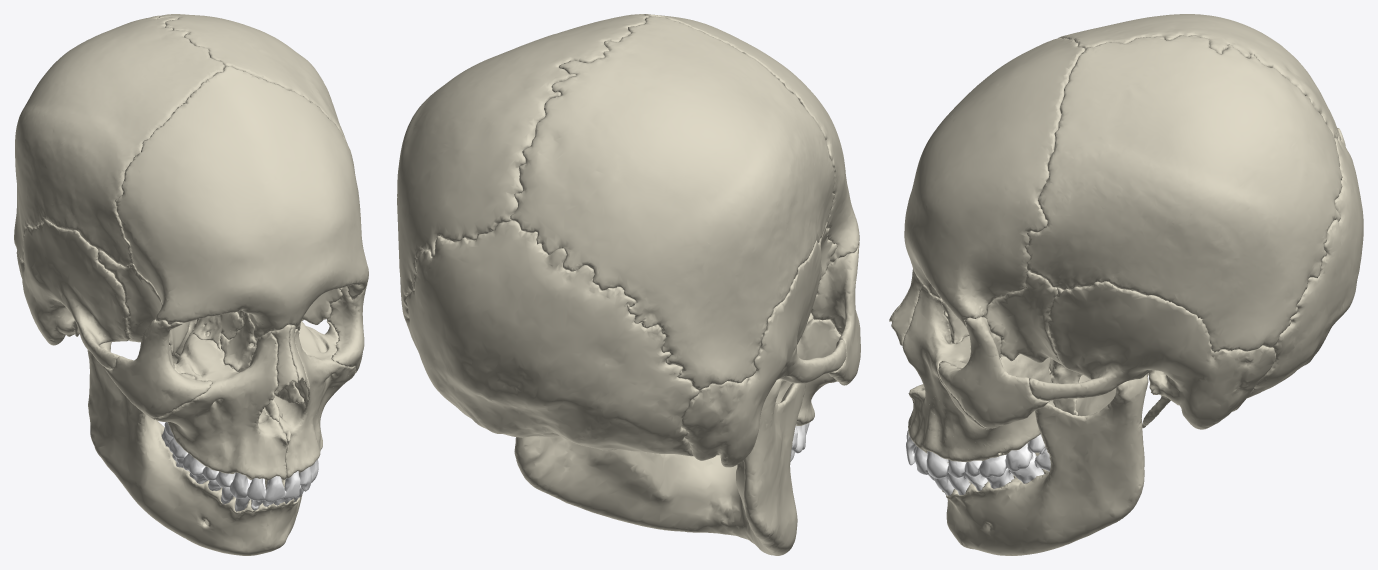
Rendered from Skull.glb.
The picture shows the model from 3 angles, left to right: view 1: azimuth 30°, elevation 25°; view 2: azimuth 150°, elevation 25°; view 3: azimuth 270°, elevation 25°; orthographic projection. The views are drawn at different scales.
Parts seen in each view (by area): view 1: Frontal, Right_Parietal, Mandible, Right_max, Right_temporal, Left_parietal, Left_maxilla (×2), Right_zygomatic, Sphenoid, Teeth, Left_zygomatic, Right_lacrimal (+4 smaller); view 2: Right_Parietal, Occipital, Left_parietal, Mandible, Right_temporal, Frontal, Right_zygomatic, Right_max; view 3: Left_parietal, Frontal, Mandible, Left_temporal, Left_maxilla (×2), Occipital, Right_Parietal, Left_zygomatic, Sphenoid, Teeth, Lower_teeth, Left_nasal.
Part boxes in pixels (left/top/right/bottom): Frontal: left=115, top=66, right=368, bottom=340; Right_Parietal: left=14, top=15, right=225, bottom=267; Mandible: left=87, top=342, right=302, bottom=555; Right_max: left=155, top=331, right=287, bottom=480; Right_temporal: left=16, top=219, right=130, bottom=369; Left_parietal: left=157, top=14, right=347, bottom=144; Left_maxilla (×2): left=266, top=321, right=355, bottom=478; Right_zygomatic: left=103, top=319, right=212, bottom=419; Sphenoid: left=97, top=250, right=343, bottom=363; Teeth: left=164, top=422, right=318, bottom=501; Left_zygomatic: left=327, top=281, right=367, bottom=373; Right_lacrimal: left=220, top=312, right=256, bottom=372; Right_Parietal: left=510, top=16, right=835, bottom=390; Occipital: left=406, top=220, right=699, bottom=456; Left_parietal: left=397, top=14, right=648, bottom=322; Mandible: left=514, top=379, right=806, bottom=555; Right_temporal: left=681, top=240, right=846, bottom=467; Frontal: left=642, top=14, right=859, bottom=262; Right_zygomatic: left=811, top=242, right=860, bottom=385; Right_max: left=775, top=313, right=840, bottom=425; Left_parietal: left=1024, top=35, right=1342, bottom=352; Frontal: left=904, top=38, right=1085, bottom=327; Mandible: left=942, top=374, right=1148, bottom=555; Left_temporal: left=1029, top=281, right=1275, bottom=429; Left_maxilla (×2): left=902, top=285, right=1054, bottom=461; Occipital: left=1247, top=128, right=1363, bottom=398; Right_Parietal: left=1058, top=14, right=1341, bottom=140; Left_zygomatic: left=938, top=316, right=1049, bottom=428; Sphenoid: left=985, top=271, right=1082, bottom=415; Teeth: left=906, top=430, right=1045, bottom=478; Lower_teeth: left=928, top=447, right=1050, bottom=495; Left_nasal: left=889, top=271, right=923, bottom=345.
Size of the model in its own units: 13.85 by 20.76 by 17.5.
